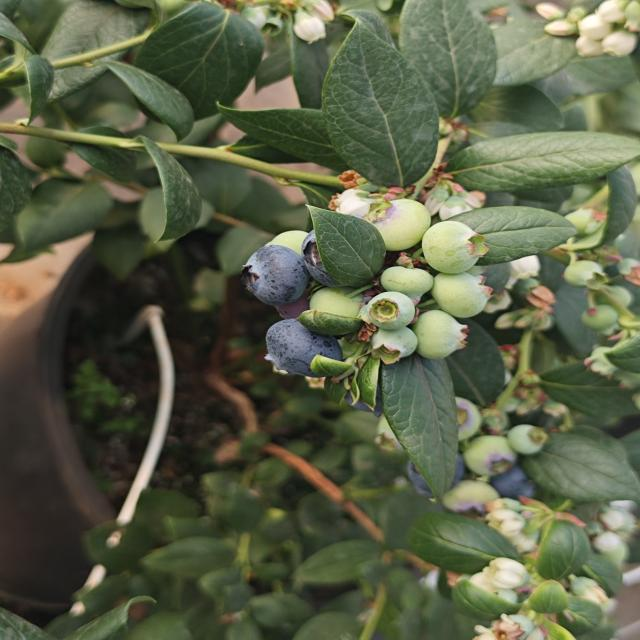ripe: (261, 317, 347, 380), (299, 223, 381, 288), (237, 243, 311, 308), (402, 446, 468, 498), (482, 458, 545, 505)
